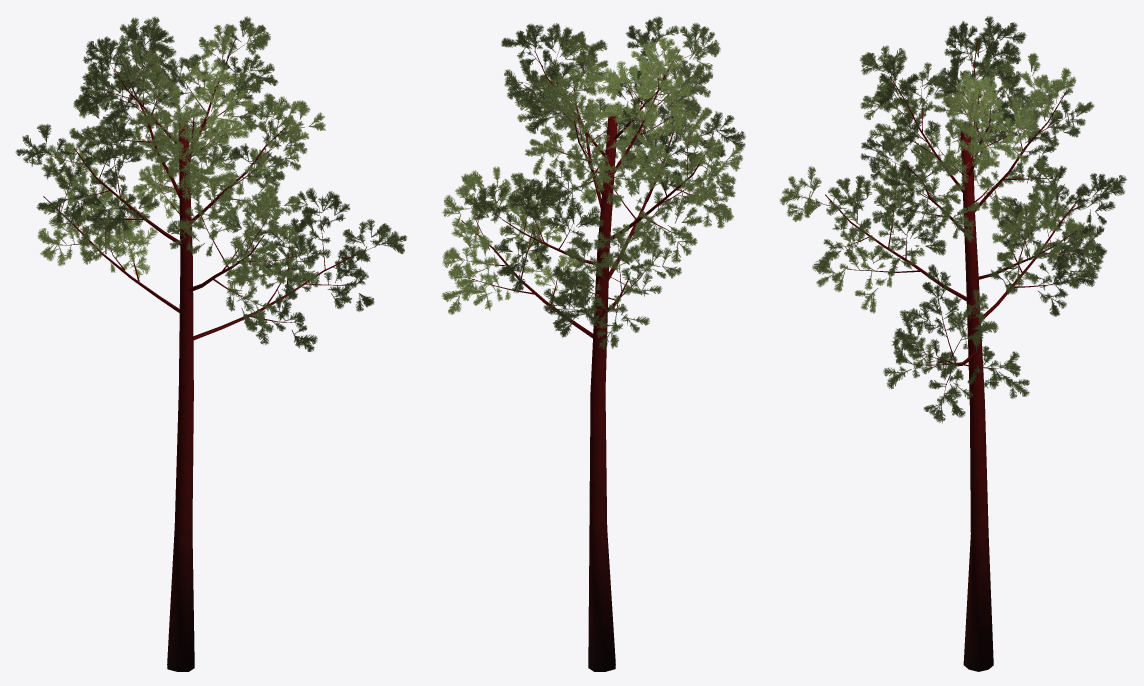
The model's file is pine_open_v03_LOD1.glb.
3 views of the same model, side by side, from view 1: azimuth 30°, elevation 25°; view 2: azimuth 150°, elevation 25°; view 3: azimuth 270°, elevation 25° (orthographic). The views are drawn at different scales.
Visible parts, largest first — view 1: pine_open_v03_LOD1; view 2: pine_open_v03_LOD1; view 3: pine_open_v03_LOD1.
Part boxes in pixels (x1,y1,x2,y2): pine_open_v03_LOD1: (15, 16, 406, 671); pine_open_v03_LOD1: (441, 16, 745, 671); pine_open_v03_LOD1: (779, 16, 1126, 671).
Size of the model in its own units: 15.32 by 28.07 by 14.43.
2 materials, 2 textured.
